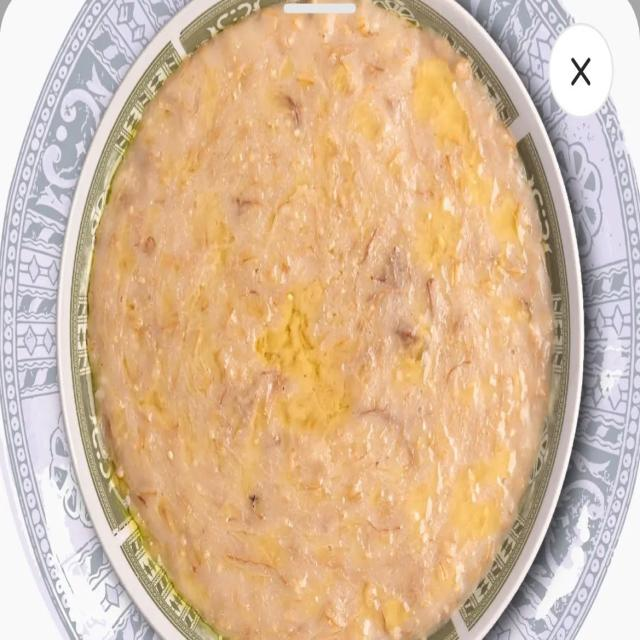Harees: (86, 2, 562, 640)
